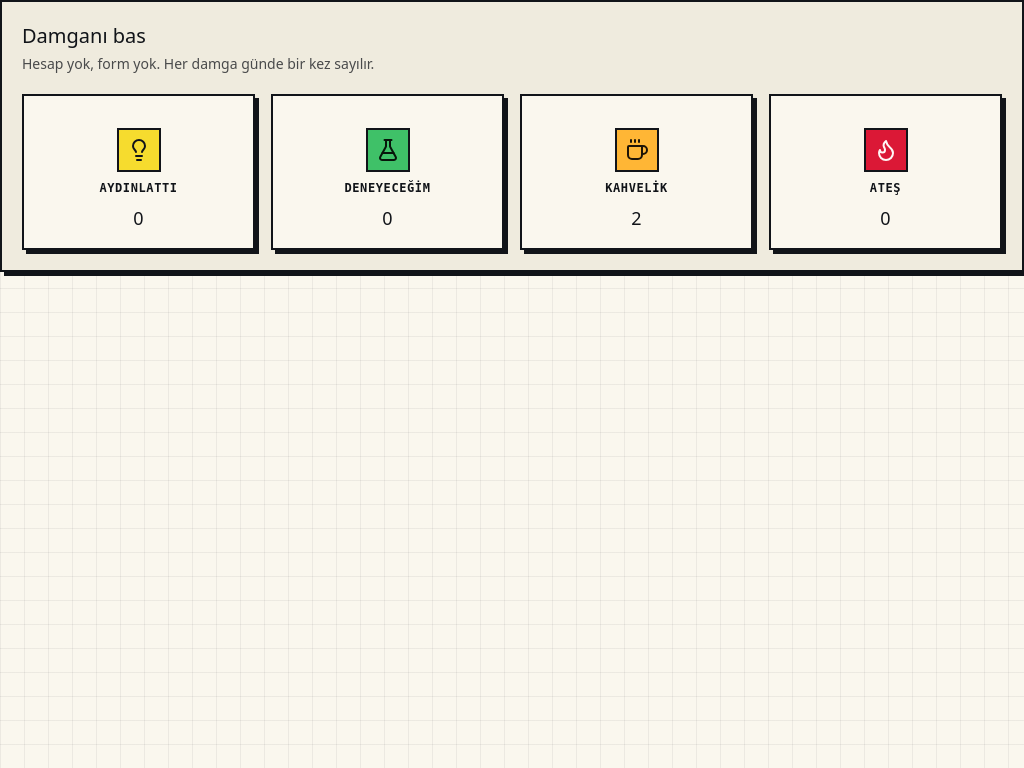
Test case: Damgalar › basınca sayıyı artırır ve düğmeyi basılı gösterir
Step 1. Click the button "Kahvelik 2" → (636, 172), box [520,94,753,250]
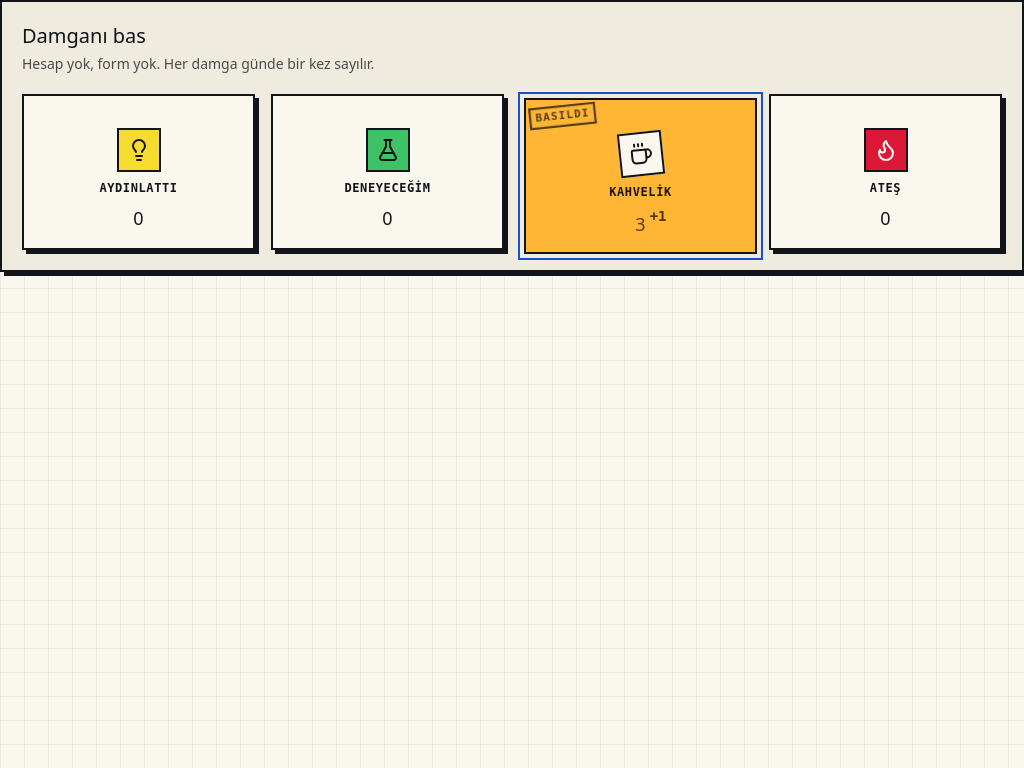
Expected: the button "Kahvelik 3 +1 BASILDI" is shown, [524,98,757,254]
